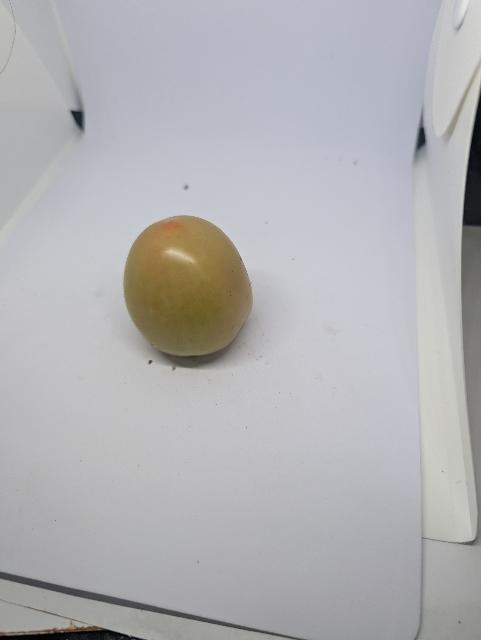breaker: (124, 216, 253, 356)
